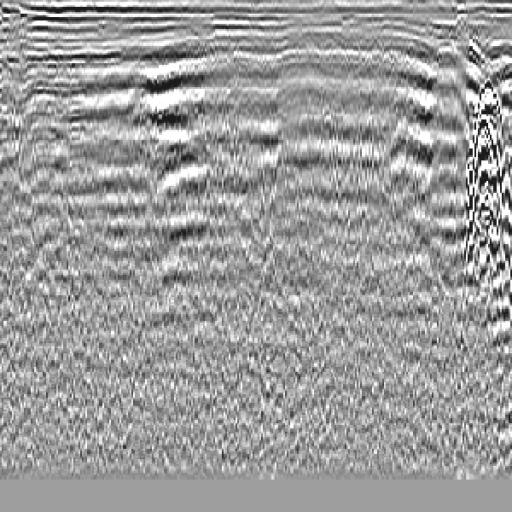non-metallic: (459, 30, 512, 325)
